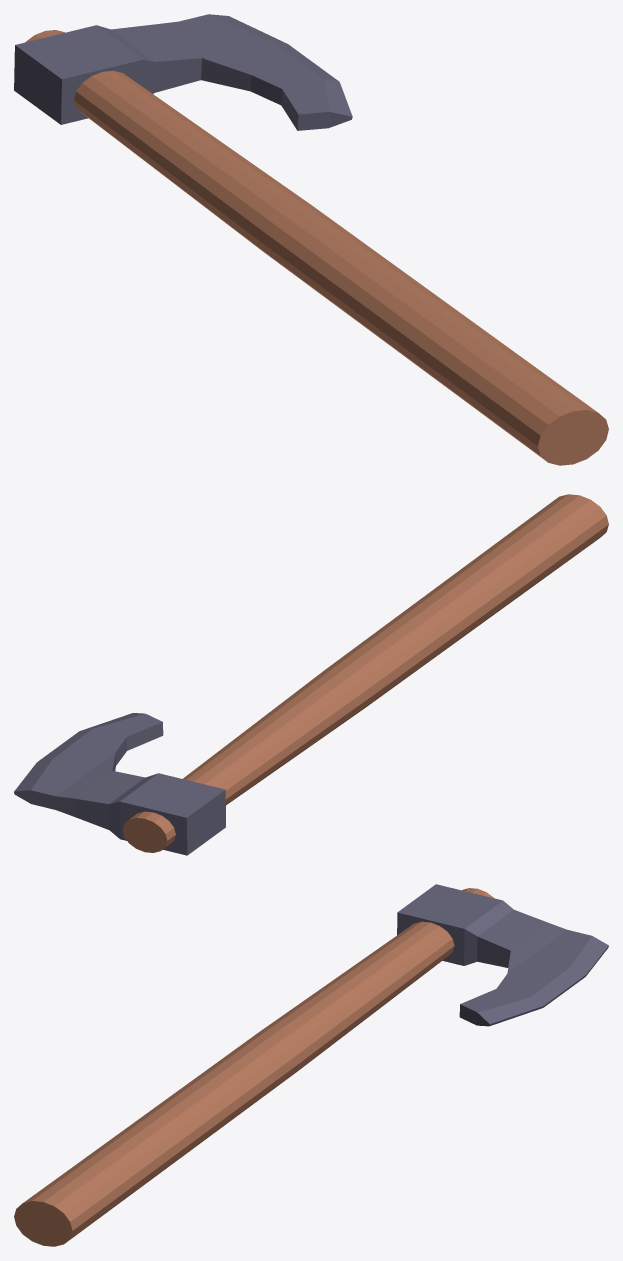
File: Viking_Axe.fbx
The picture shows the model from 3 angles, top to bottom: view 1: azimuth 30°, elevation 25°; view 2: azimuth 150°, elevation 25°; view 3: azimuth 330°, elevation 25°; orthographic projection. The views are drawn at different scales.
Visible parts, largest first — view 1: Axe; view 2: Axe; view 3: Axe.
Part boxes in pixels (x1,y1,x2,y2): Axe: (14, 14, 608, 465); Axe: (14, 494, 608, 855); Axe: (14, 884, 608, 1246).
Size of the model in its own units: 311 by 69.26 by 1247.
